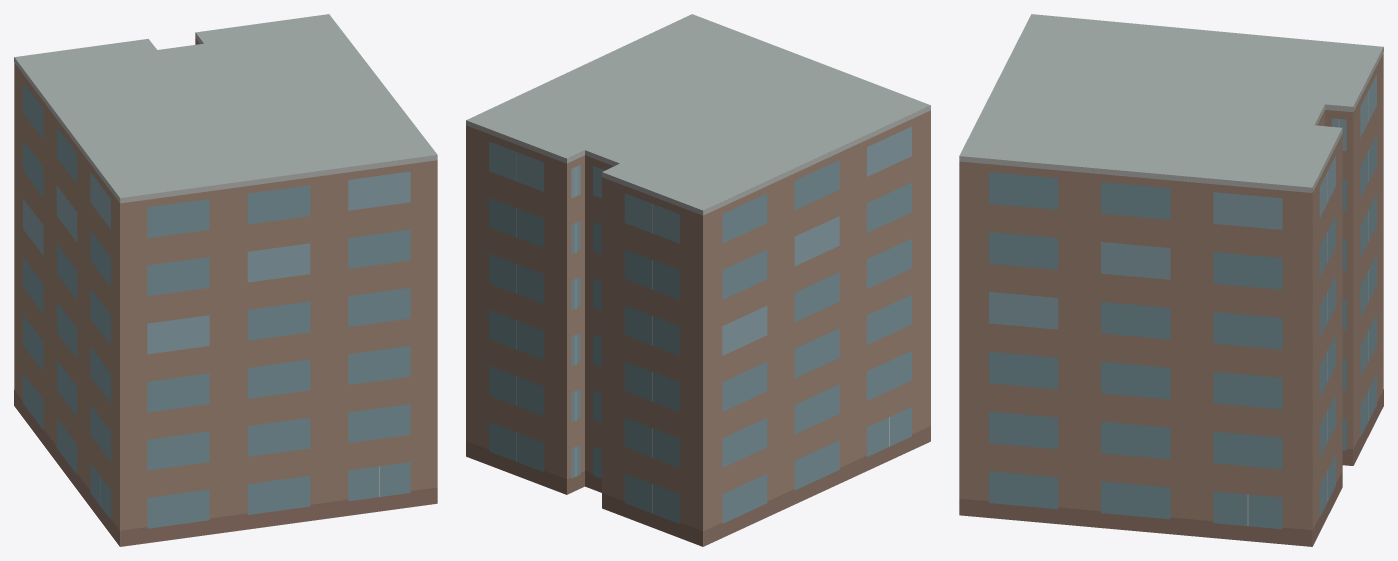
The model's file is survey-upis-32985318.glb.
3 views of the same model, side by side, from view 1: azimuth 30°, elevation 25°; view 2: azimuth 150°, elevation 25°; view 3: azimuth 270°, elevation 25° (orthographic). The views are drawn at different scales.
Parts seen in each view (by area): view 1: survey-upis-32985318.tmp; view 2: survey-upis-32985318.tmp; view 3: survey-upis-32985318.tmp.
Boxes of the visible parts, x1,y1,x2,y2 form: survey-upis-32985318.tmp: [14, 14, 437, 546]; survey-upis-32985318.tmp: [466, 14, 930, 546]; survey-upis-32985318.tmp: [959, 14, 1383, 546].
Size of the model in its own units: 16.81 by 16.2 by 17.36.
